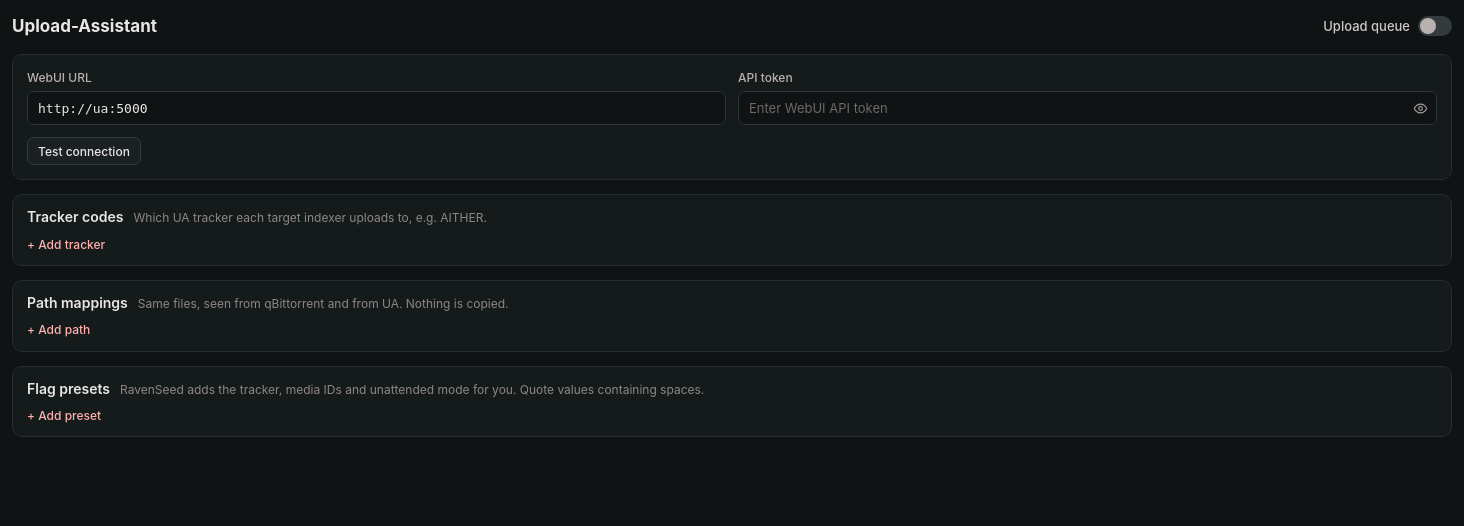
Test: discards edits and shows a status pill after testing
Expected: the text "Reachable" is not shown
Replace the text in the field showing "http://ua:5000" with "http://other:5000" at (376, 108), box [27, 91, 726, 125]
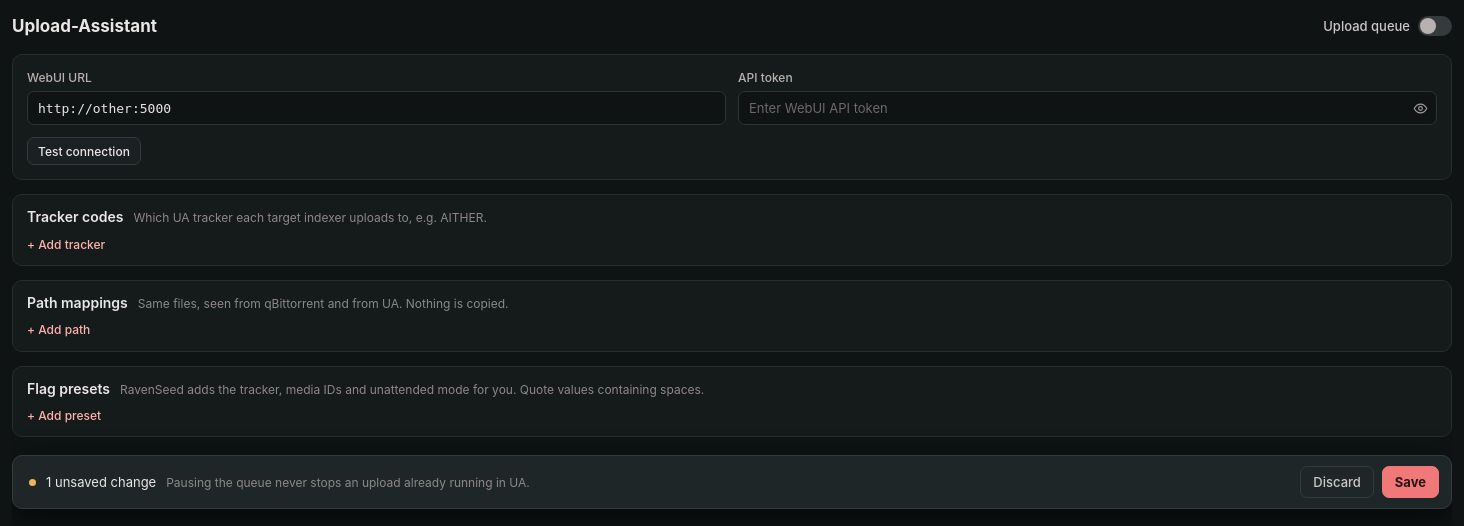
Click the button "Discard" at (1337, 482), box [1300, 466, 1374, 498]
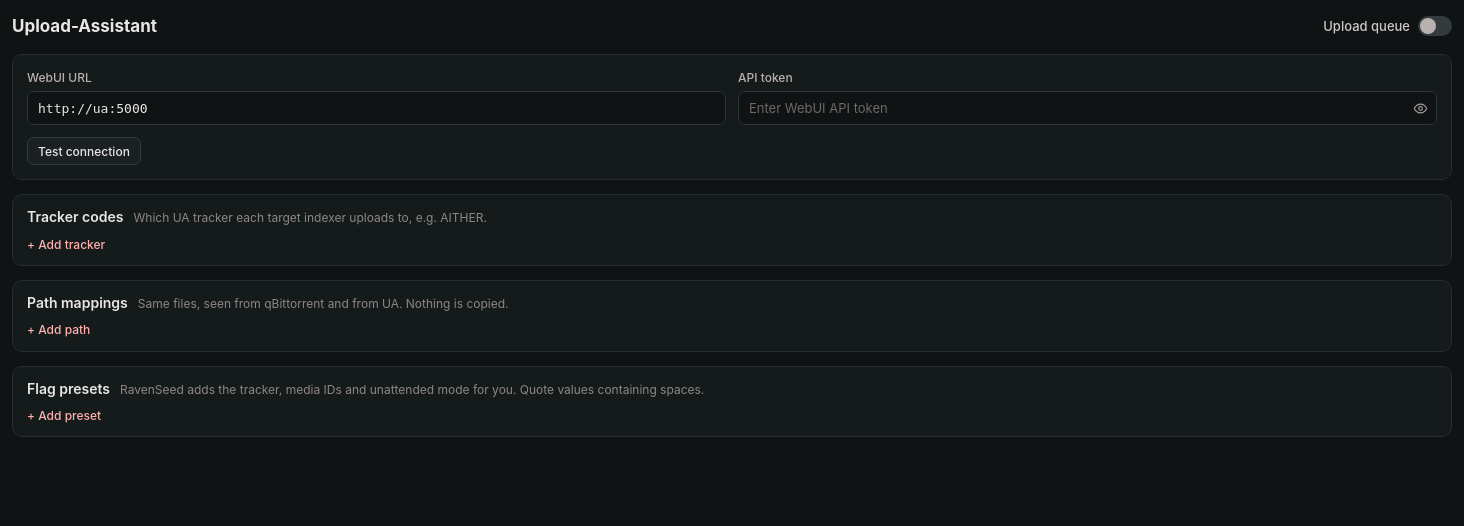
Now the field showing "http://ua:5000" holds "http://ua:5000", box [27, 91, 726, 125]
Click the button "Test connection" at (84, 151), box [27, 137, 141, 165]
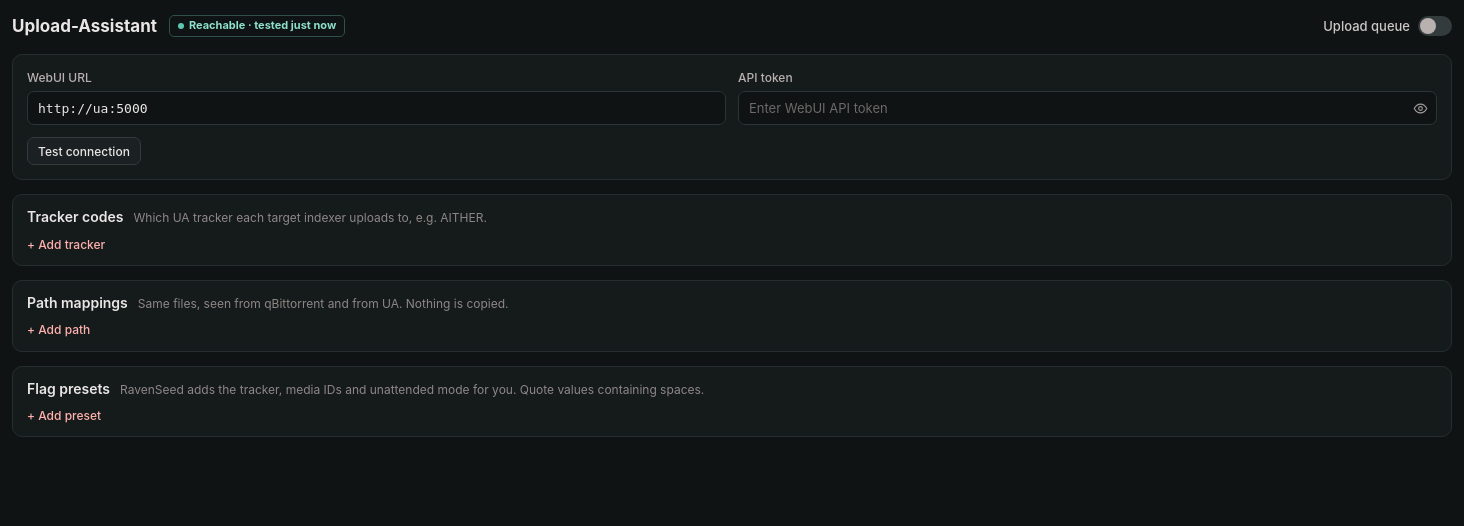
Now the text "Reachable · tested just now" is shown, box [169, 15, 345, 37]
